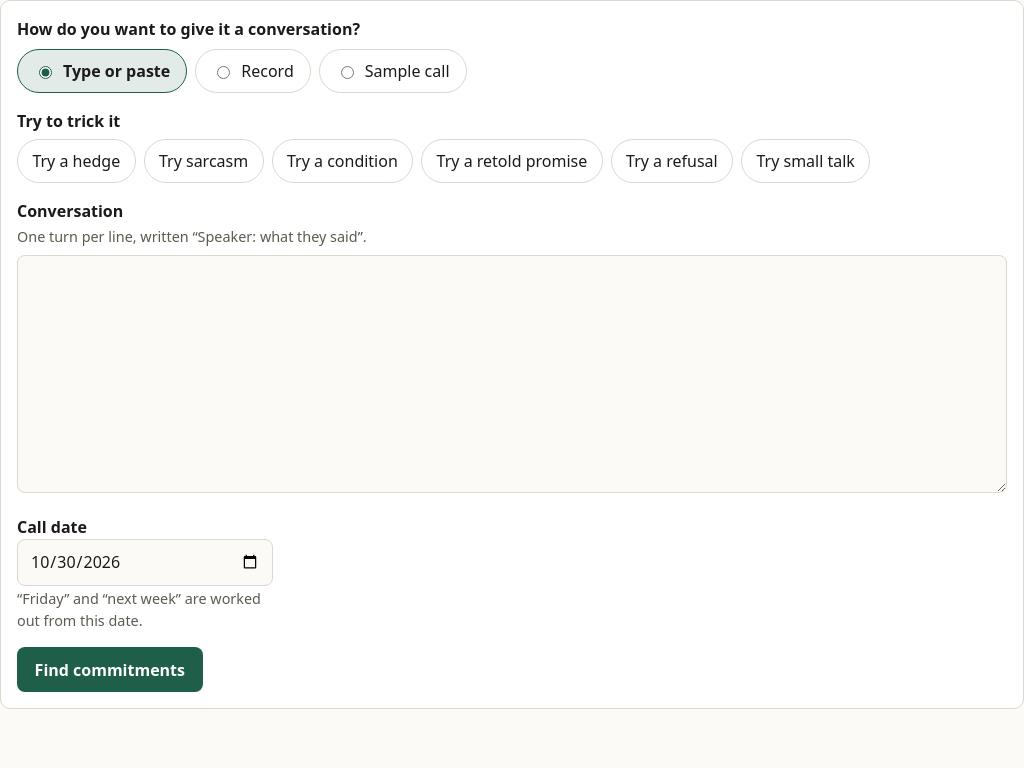
Test: Demo in record mode › keeps the typed text when switching modes
The image size is (1024, 768).
In the text box labelled "Conversation": (512,374) [17,255,1007,493], type "Ana: hi"
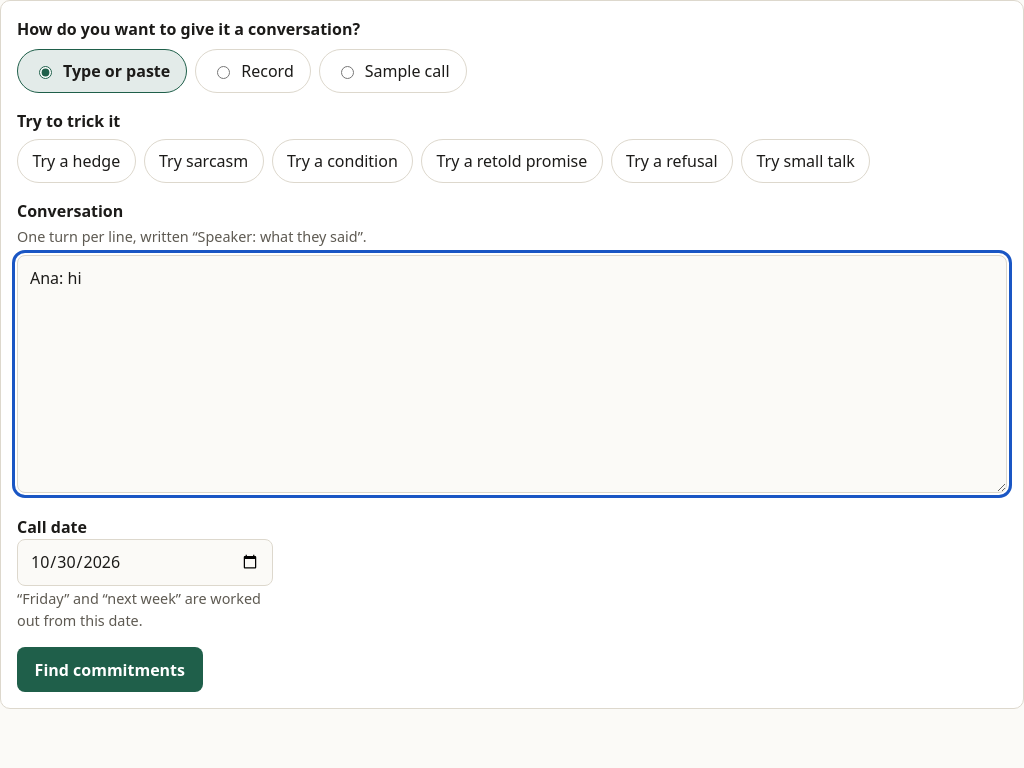
Click the radio button labelled "Record": (224,72) [217,66,230,79]
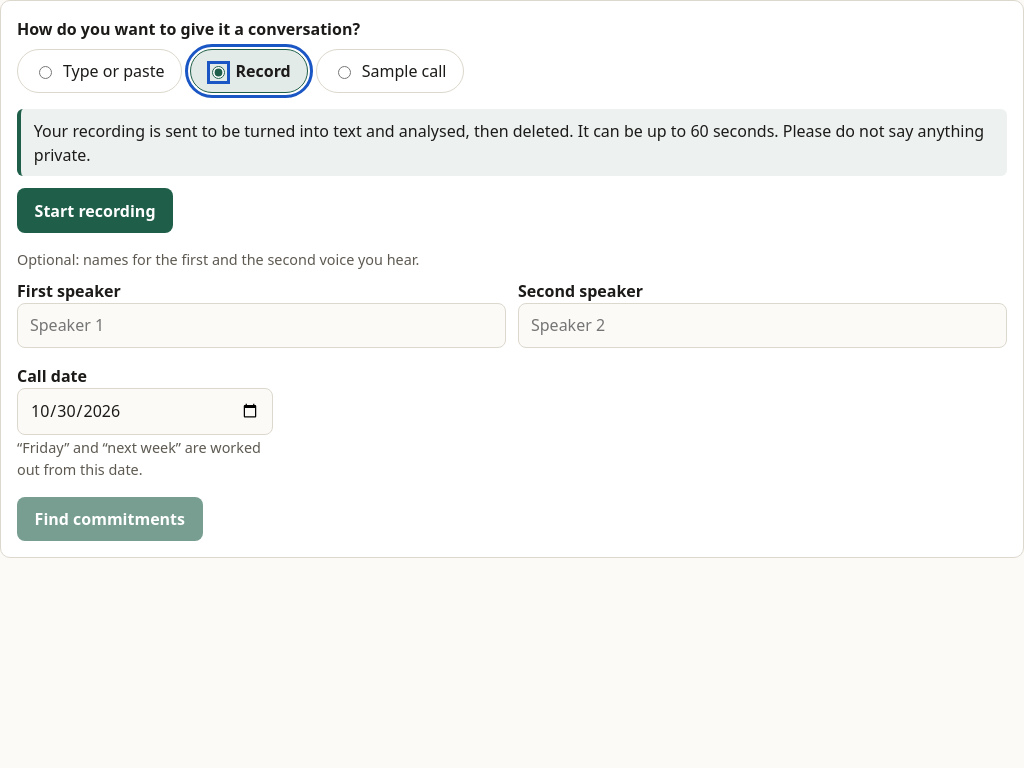
Click the radio button labelled "Type or paste": (46,72) [39,66,52,79]
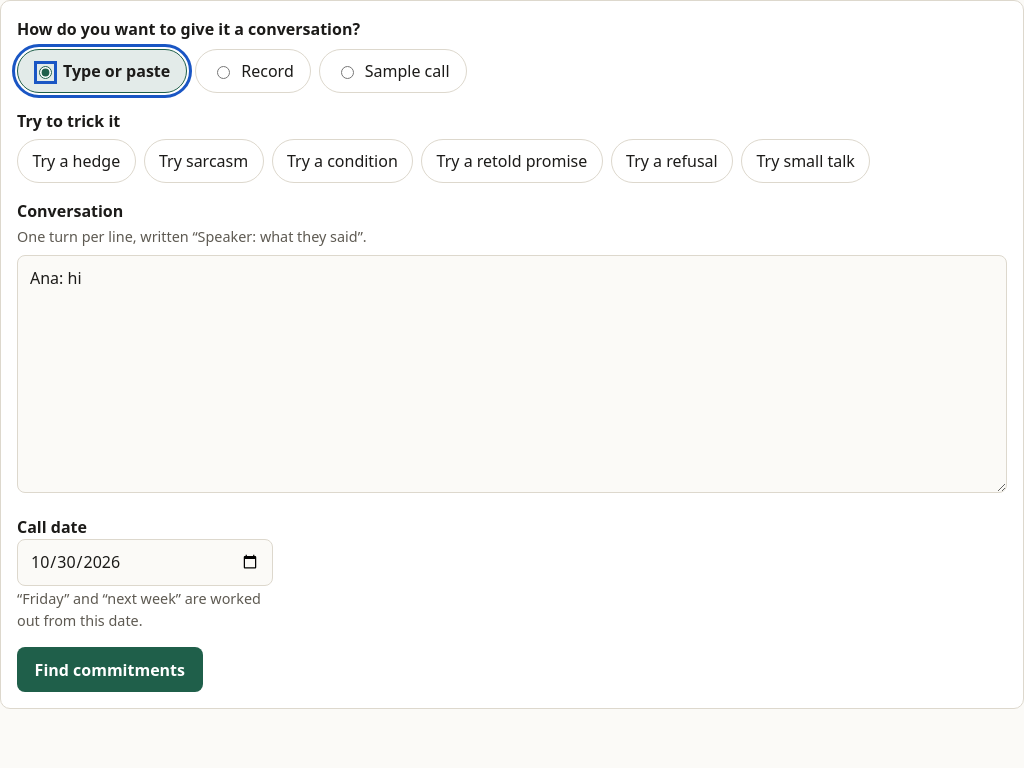
Check: the text box labelled "Conversation" holds "Ana: hi", box [17,255,1007,493]
